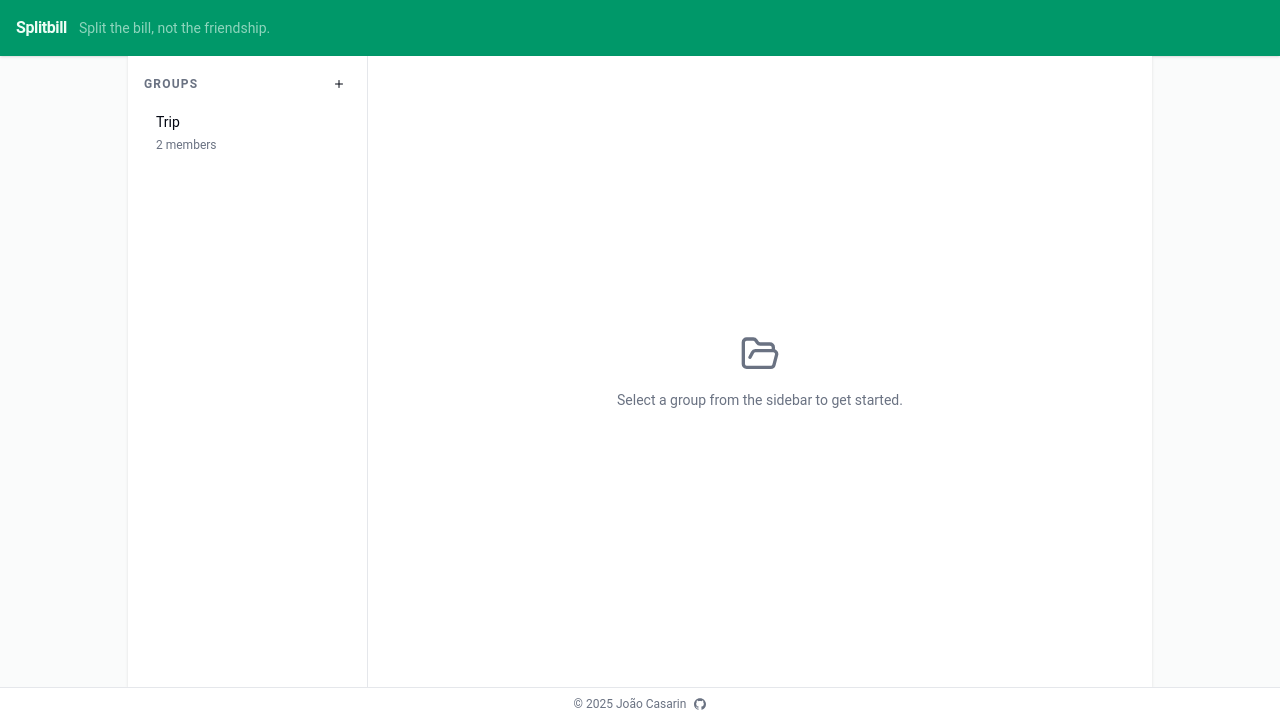
Test: App › renders group screen when view is group
This screenshot has width=1280, height=720.
Click the button "Trip 2 members". click: [248, 134]
box: [144, 104, 351, 164]
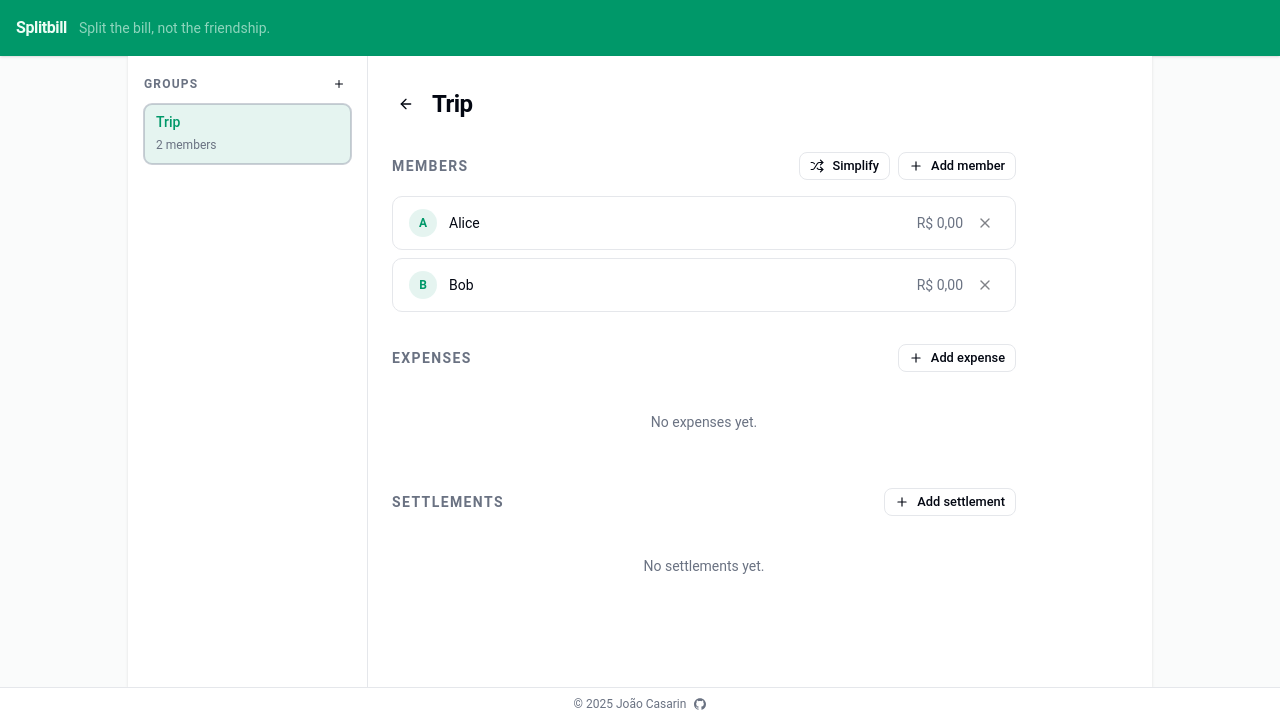
Expected: the heading "Trip" is shown, [432, 88, 472, 120]
